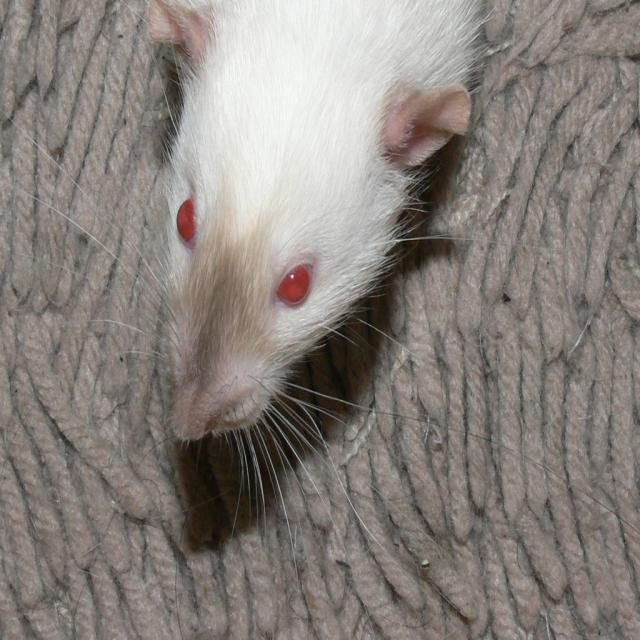rat: (156, 0, 489, 444)
